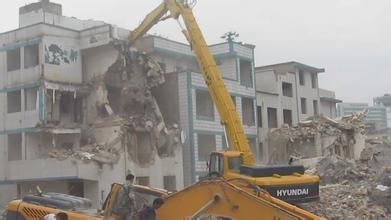excavator: (121, 1, 333, 207)
